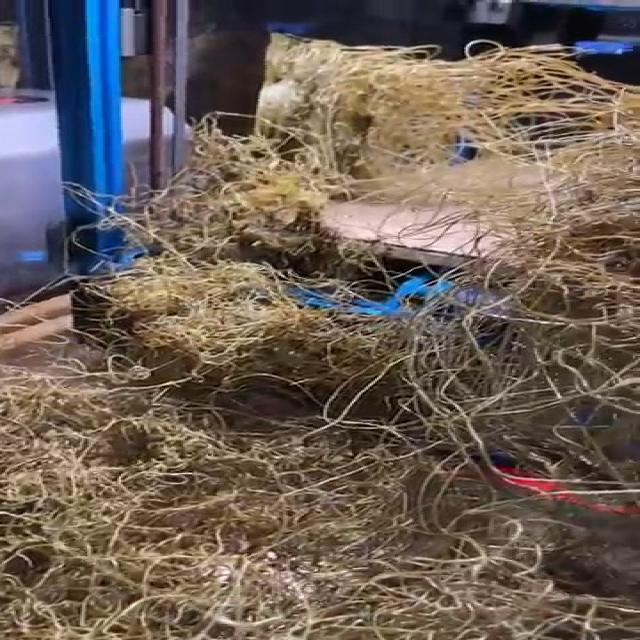spaghetti: (4, 21, 640, 639)
